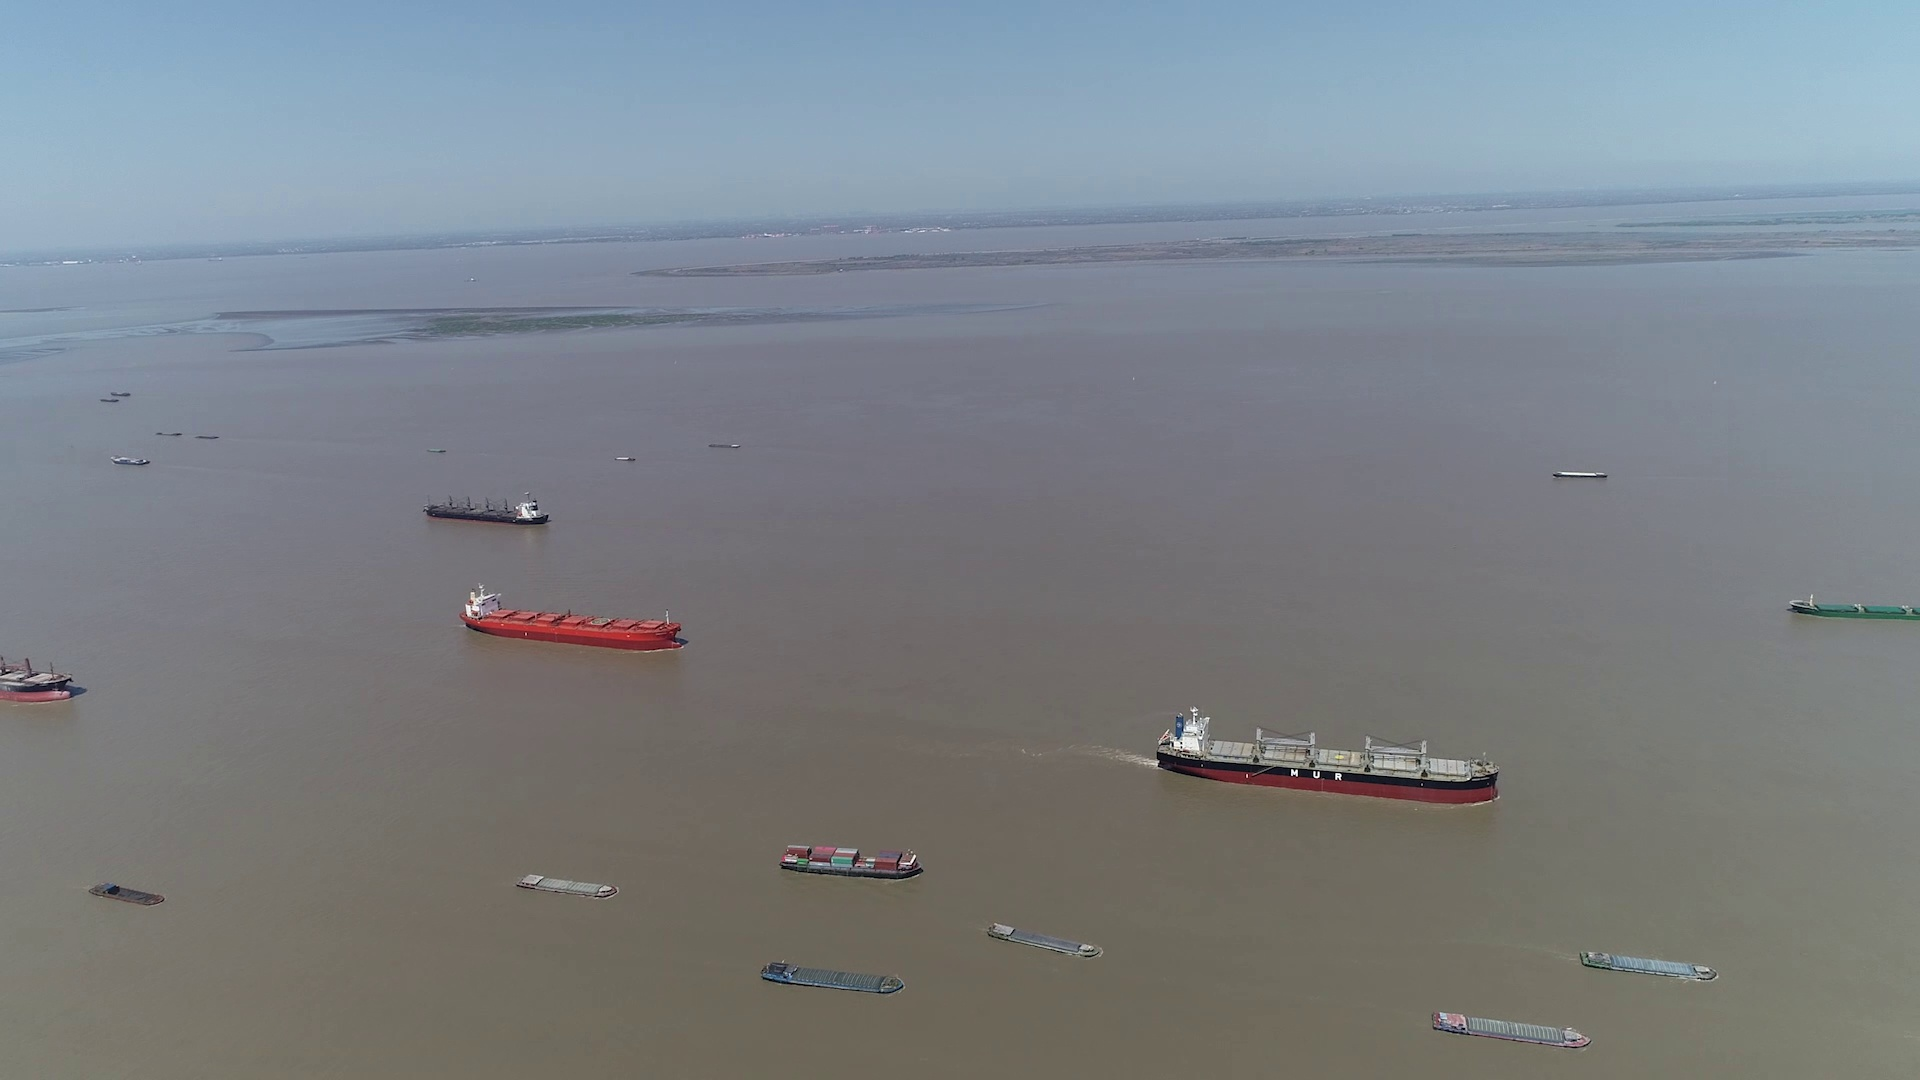ship: (1156, 707, 1499, 802), (464, 584, 675, 651), (1432, 1011, 1588, 1050), (781, 843, 922, 880), (1, 641, 80, 705), (760, 961, 907, 996), (1580, 949, 1717, 982), (985, 922, 1102, 959), (425, 491, 550, 524), (1787, 595, 1917, 621), (516, 872, 616, 897), (91, 884, 166, 907), (1551, 469, 1607, 479), (109, 455, 150, 465), (707, 443, 741, 450)
